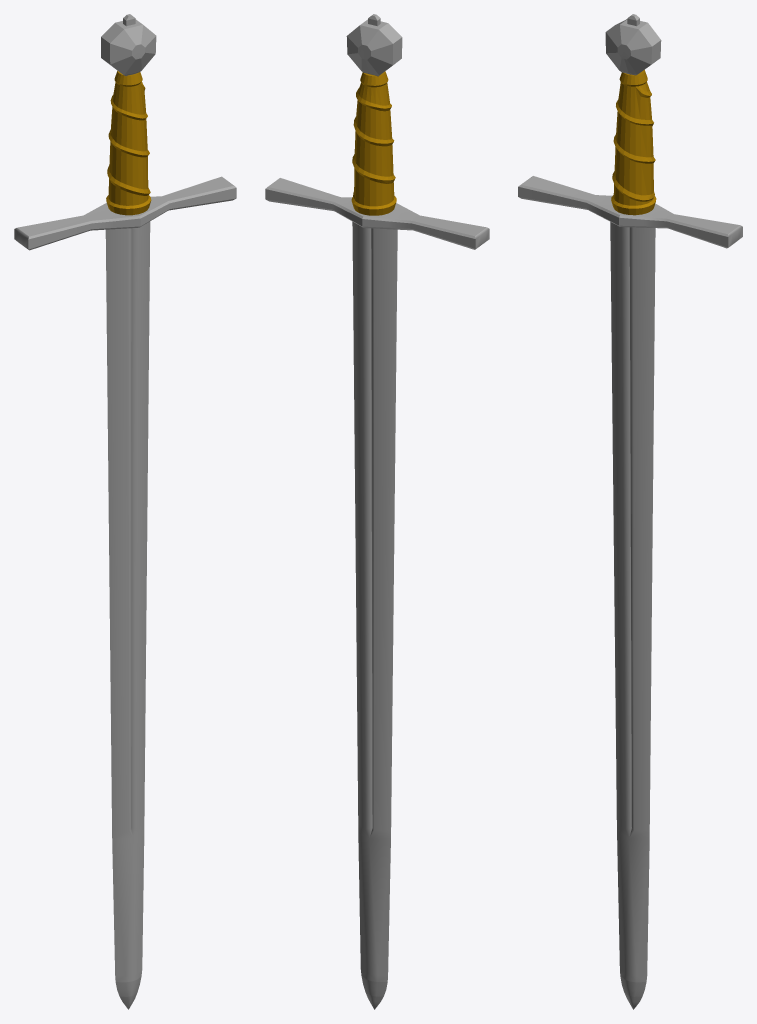
The model's file is SwordUV.fbx.
The picture shows the model from 3 angles, left to right: view 1: azimuth 30°, elevation 25°; view 2: azimuth 150°, elevation 25°; view 3: azimuth 330°, elevation 25°; orthographic projection.
Visible parts, largest first — view 1: pCube1, pCube2, pCylinder2; view 2: pCube1, pCube2, pCylinder2; view 3: pCube1, pCube2, pCylinder2.
Boxes of the visible parts, x1,y1,x2,y2 form: pCube1: [105, 221, 150, 1009]; pCube2: [14, 14, 236, 250]; pCylinder2: [106, 71, 151, 215]; pCube1: [352, 221, 397, 1009]; pCube2: [265, 14, 489, 249]; pCylinder2: [351, 71, 396, 215]; pCube1: [610, 222, 655, 1009]; pCube2: [518, 14, 742, 248]; pCylinder2: [611, 70, 656, 215].
Bounding box in the file's own units: 7.92 × 35.97 × 1.74.
